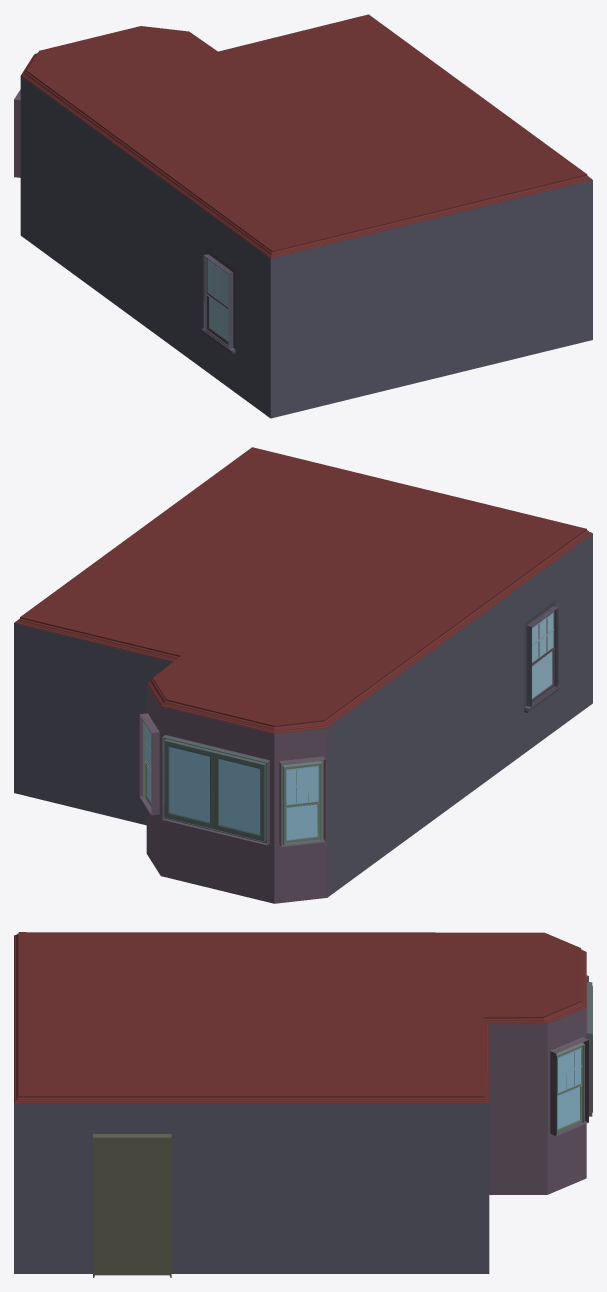
File: Room.fbx
The picture shows the model from 3 angles, top to bottom: view 1: azimuth 30°, elevation 25°; view 2: azimuth 150°, elevation 25°; view 3: azimuth 270°, elevation 25°; orthographic projection. The views are drawn at different scales.
Visible parts, largest first — view 1: Ceiling, W_01_TV, W_01_Window, WD_T6, Side_Window, WD_T5, W_02_L; view 2: Ceiling, W_01_Window, W_01_Door_L, W_02_M, Side_Window, W_02_L, Big_Window_L_Frame, Big_Window_R_Frame, WD_T5, W_02_R, WD_T8, Big_Window_Frame (+1 smaller); view 3: Ceiling, W_01_Door, Door, W_02_R_01, W_02_R, WD_T7, Side_Window, WD_T6, Big_Window_Frame, WD_T1, WD_T8, W_02_M.
Boxes of the visible parts, left/top/right/bottom form: Ceiling: left=27, top=14, right=586, bottom=250; W_01_TV: left=270, top=180, right=592, bottom=418; W_01_Window: left=20, top=76, right=270, bottom=418; WD_T6: left=271, top=174, right=592, bottom=258; Side_Window: left=201, top=249, right=235, bottom=354; WD_T5: left=21, top=71, right=272, bottom=258; W_02_L: left=14, top=89, right=20, bottom=177; Ceiling: left=20, top=447, right=586, bottom=725; W_01_Window: left=327, top=534, right=592, bottom=897; W_01_Door_L: left=14, top=623, right=172, bottom=825; W_02_M: left=160, top=706, right=274, bottom=903; Side_Window: left=143, top=600, right=560, bottom=845; W_02_L: left=274, top=728, right=327, bottom=903; Big_Window_L_Frame: left=214, top=752, right=265, bottom=841; Big_Window_R_Frame: left=164, top=741, right=214, bottom=828; WD_T5: left=324, top=529, right=592, bottom=727; W_02_R: left=139, top=684, right=160, bottom=875; WD_T8: left=14, top=617, right=180, bottom=661; Big_Window_Frame: left=159, top=735, right=327, bottom=844; Ceiling: left=18, top=932, right=580, bottom=1096; W_01_Door: left=14, top=1103, right=489, bottom=1273; Door: left=95, top=1139, right=169, bottom=1275; W_02_R_01: left=489, top=1024, right=547, bottom=1194; W_02_R: left=547, top=1008, right=588, bottom=1194; WD_T7: left=14, top=1096, right=488, bottom=1103; Side_Window: left=551, top=1037, right=584, bottom=1134; WD_T6: left=14, top=933, right=18, bottom=1102; Big_Window_Frame: left=541, top=982, right=592, bottom=1135; WD_T1: left=483, top=1017, right=546, bottom=1024; WD_T8: left=484, top=1019, right=489, bottom=1102; W_02_M: left=586, top=982, right=592, bottom=1116.
Bounding box in the file's own units: 695 × 329 × 977.
